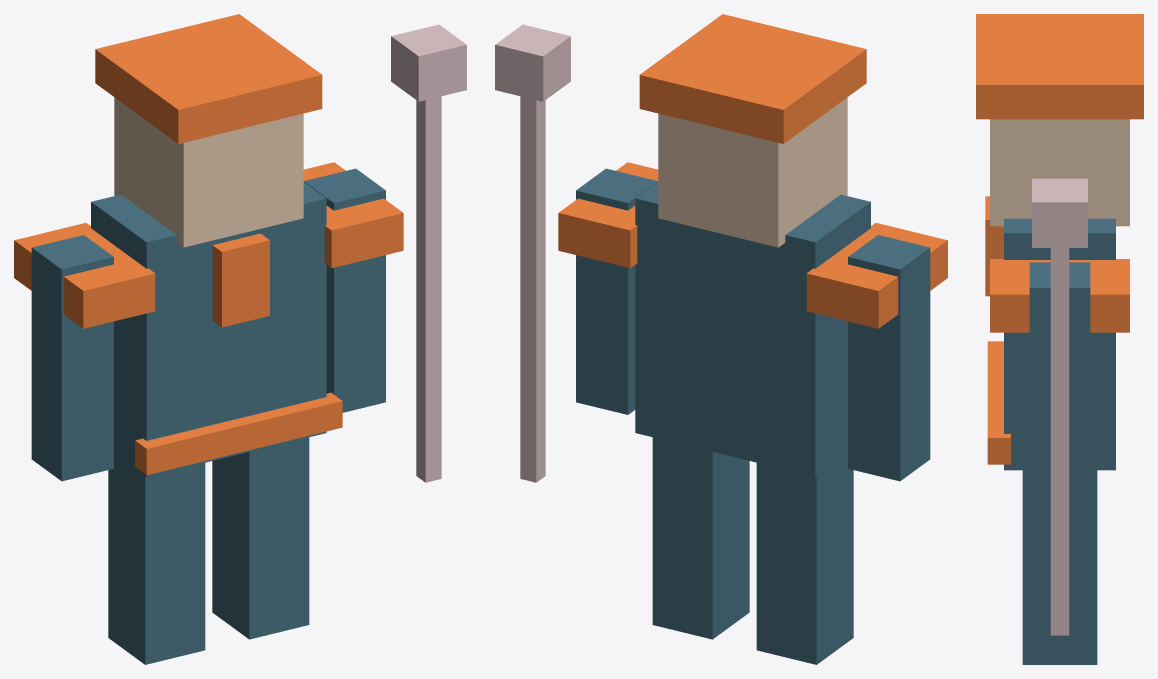
Rendered from 08_kiva_voxmere_tactician_near_deepwater.glb.
3 views of the same model, side by side, from view 1: azimuth 30°, elevation 25°; view 2: azimuth 150°, elevation 25°; view 3: azimuth 270°, elevation 25° (orthographic).
Parts seen in each view (by area): view 1: Kiva Voxmere, Tactician near Deepwater; view 2: Kiva Voxmere, Tactician near Deepwater; view 3: Kiva Voxmere, Tactician near Deepwater.
Part boxes in pixels (<box>): Kiva Voxmere, Tactician near Deepwater: <box>14,14,466,664</box>; Kiva Voxmere, Tactician near Deepwater: <box>495,14,947,664</box>; Kiva Voxmere, Tactician near Deepwater: <box>976,14,1143,664</box>.
Bounding box in the file's own units: 1.11 × 1.49 × 0.3935.
